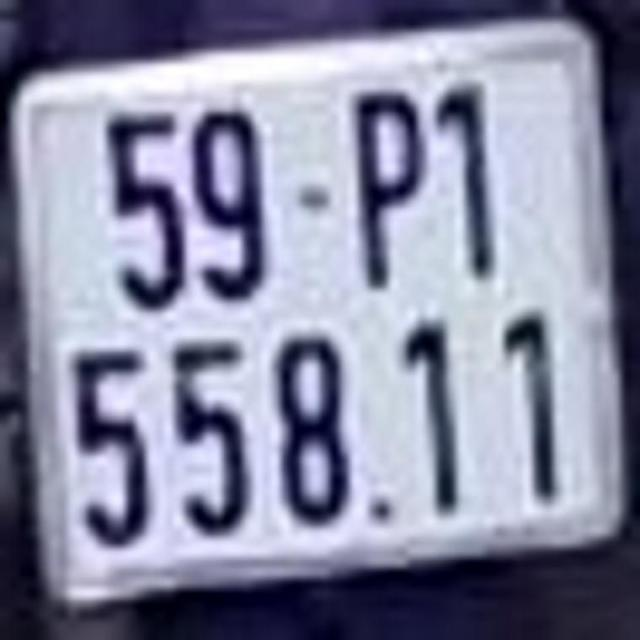1: (434, 75, 502, 287), (501, 306, 560, 505), (408, 321, 461, 506)
5: (107, 107, 189, 311), (166, 339, 247, 536), (75, 343, 149, 548)
8: (268, 328, 346, 520)
9: (188, 111, 268, 307)
P: (354, 94, 425, 294)
